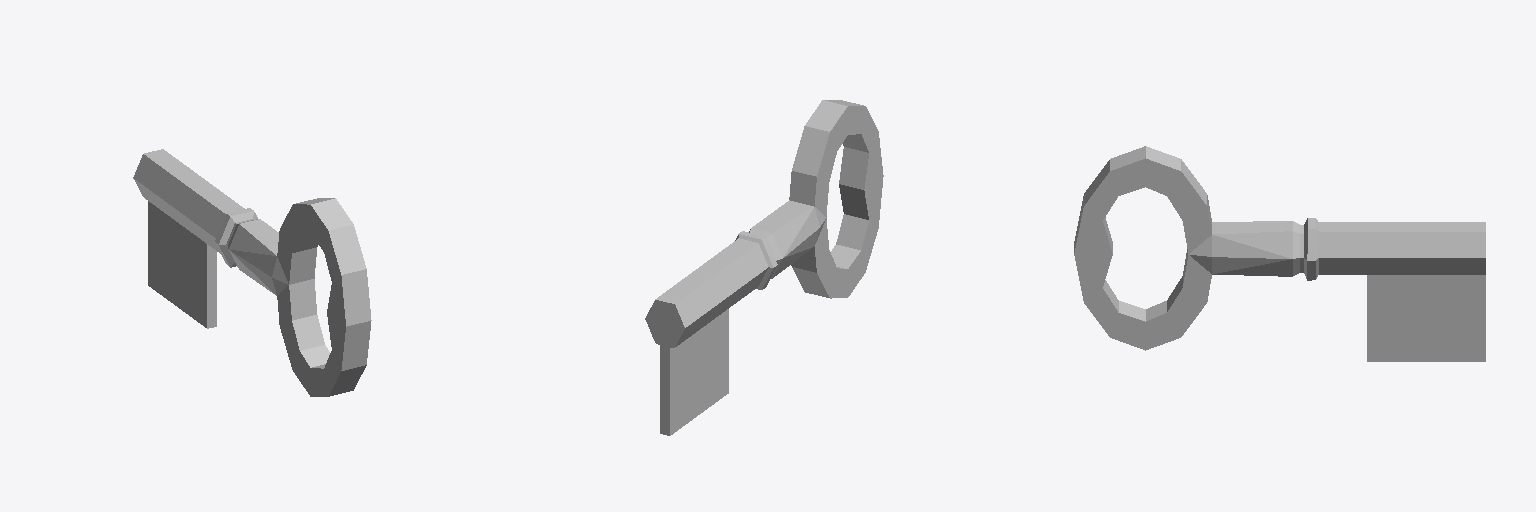
Rendered from f_Key4.obj.
3 views of the same model, side by side, from view 1: azimuth 30°, elevation 25°; view 2: azimuth 150°, elevation 25°; view 3: azimuth 270°, elevation 25° (orthographic).
Visible parts, largest first — view 1: Key4; view 2: Key4; view 3: Key4.
Boxes of the visible parts, x1=… form: Key4: x1=133, y1=149, x2=371, y2=396; Key4: x1=645, y1=100, x2=883, y2=435; Key4: x1=1074, y1=146, x2=1485, y2=361.
Bounding box in the file's own units: 0.3947 × 1.66 × 2.98.